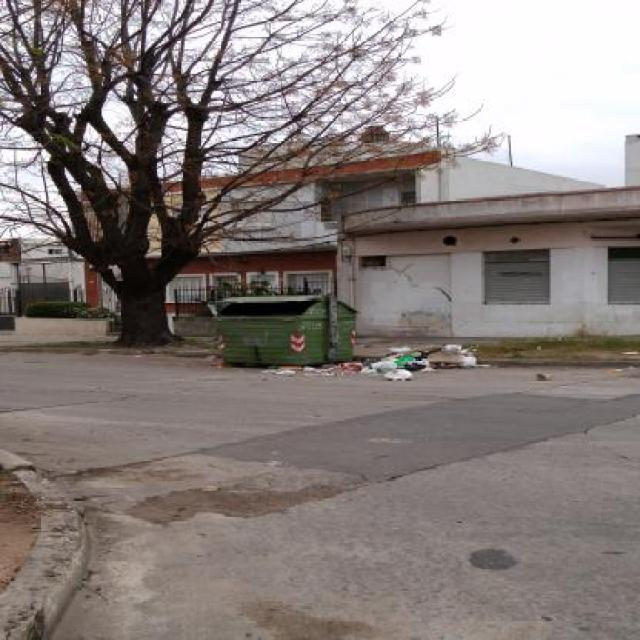garbage: (322, 340, 499, 374)
